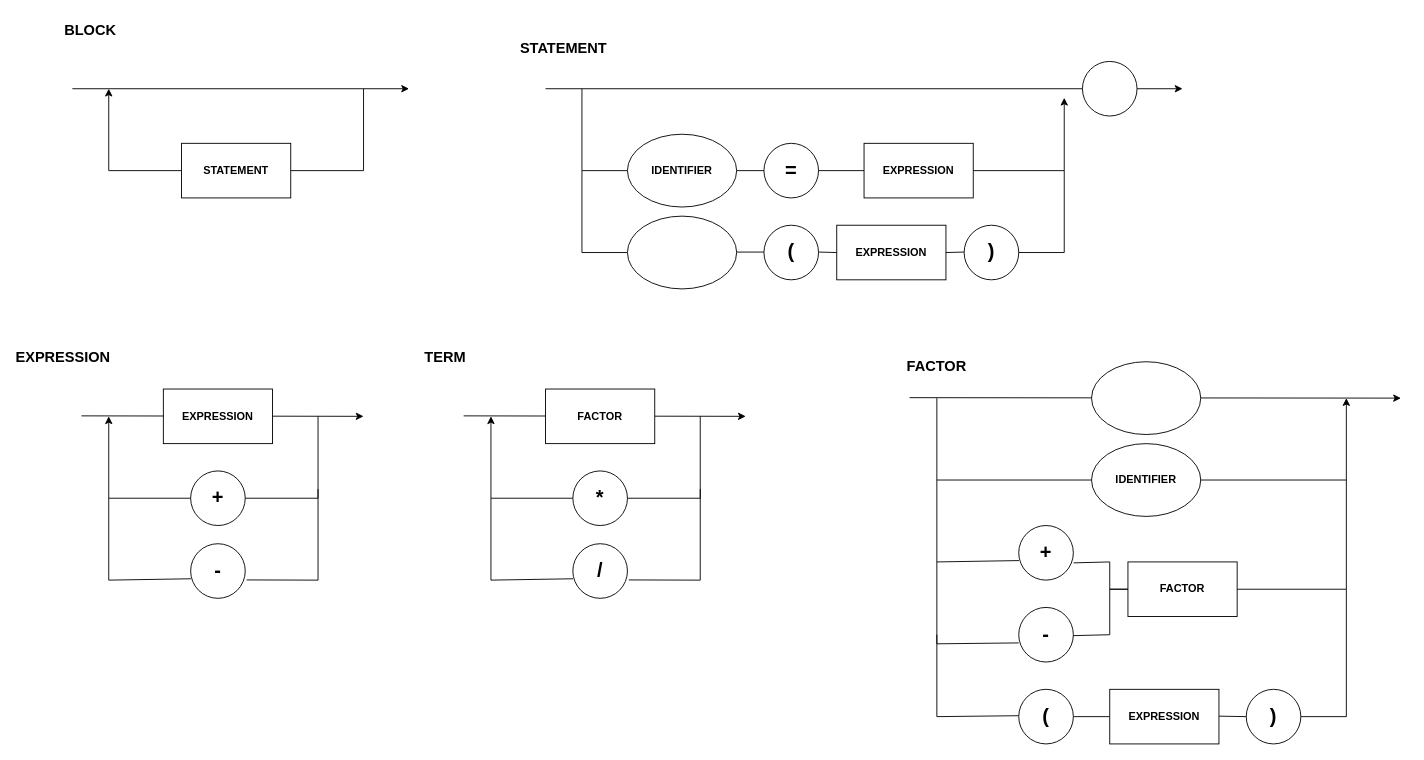
Image size: 1424x760. Some labels were removed from this diagram. Here are the shapes that lost their labels. From the top down, the centre of each, then its label:
(x=1109, y=88): \n
(x=682, y=252): PRINTLN
(x=1146, y=398): NUMBER
